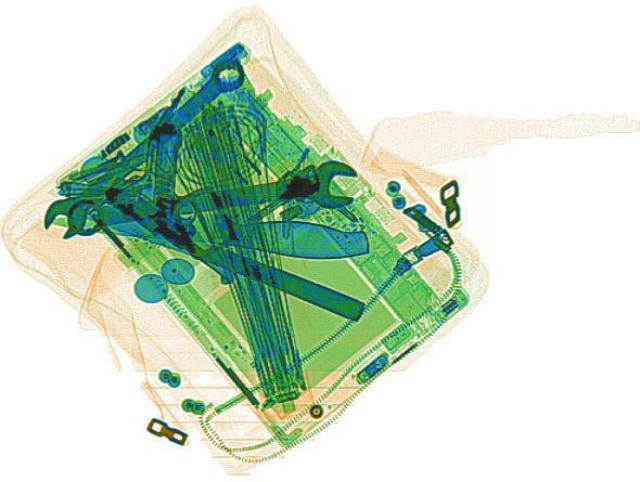Gun: (79, 117, 309, 283)
Knife: (70, 190, 370, 318), (43, 200, 370, 260)
Wrench: (25, 49, 258, 242), (62, 155, 364, 241)
